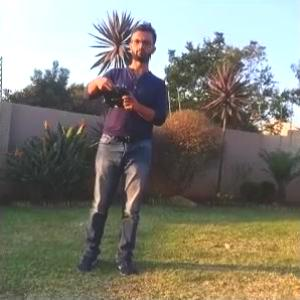follow: (70, 16, 169, 279)
